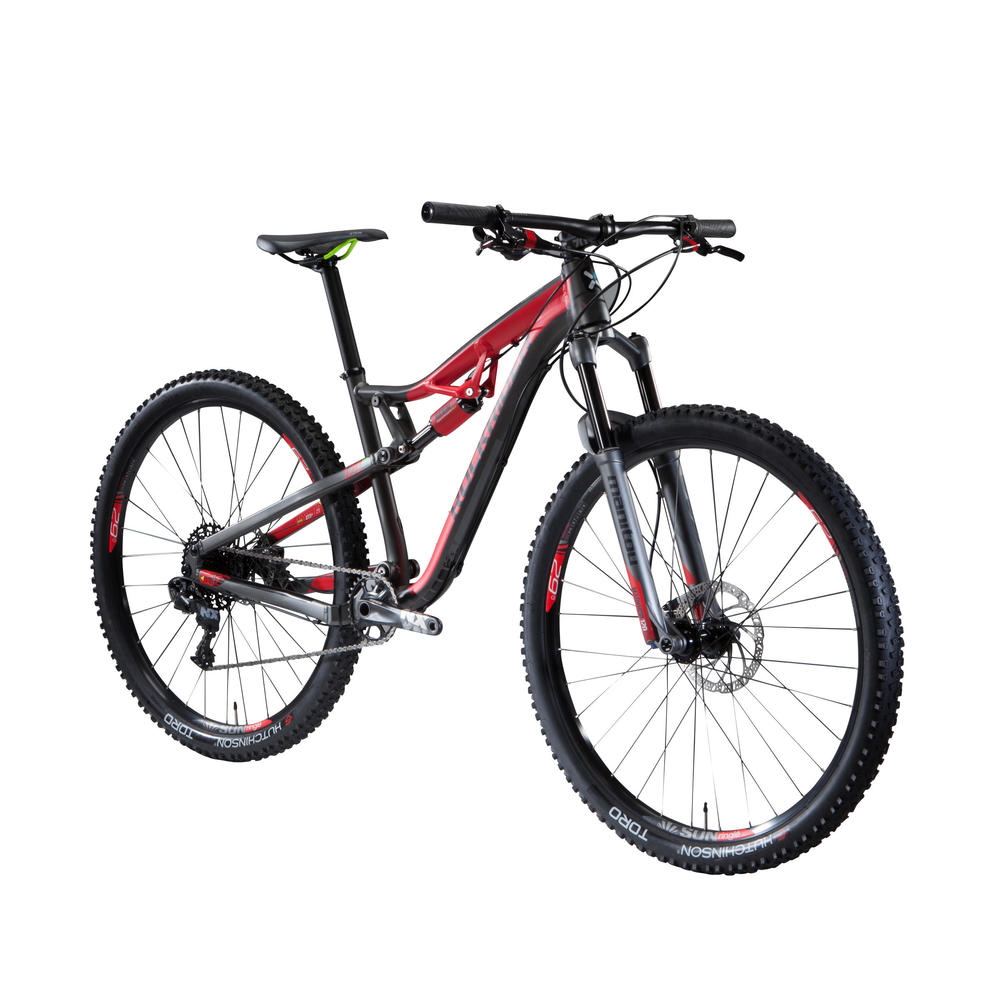MountainBike: (75, 184, 893, 863)
